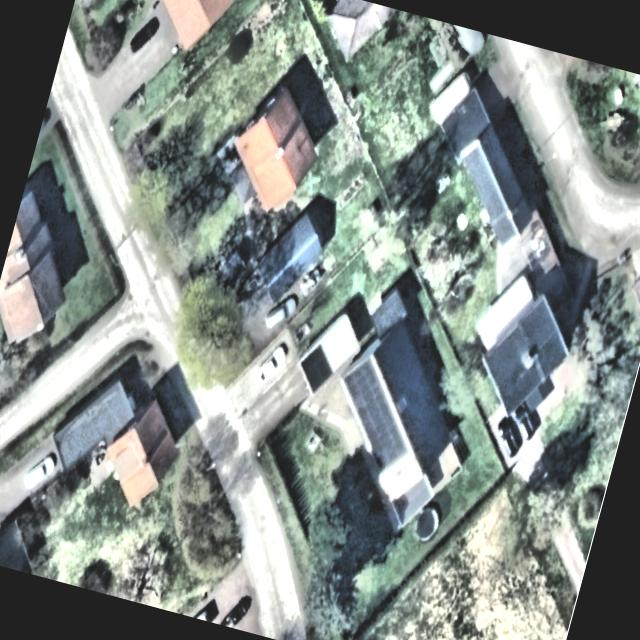roof_pv: (344, 394, 422, 474), (336, 348, 396, 418)
